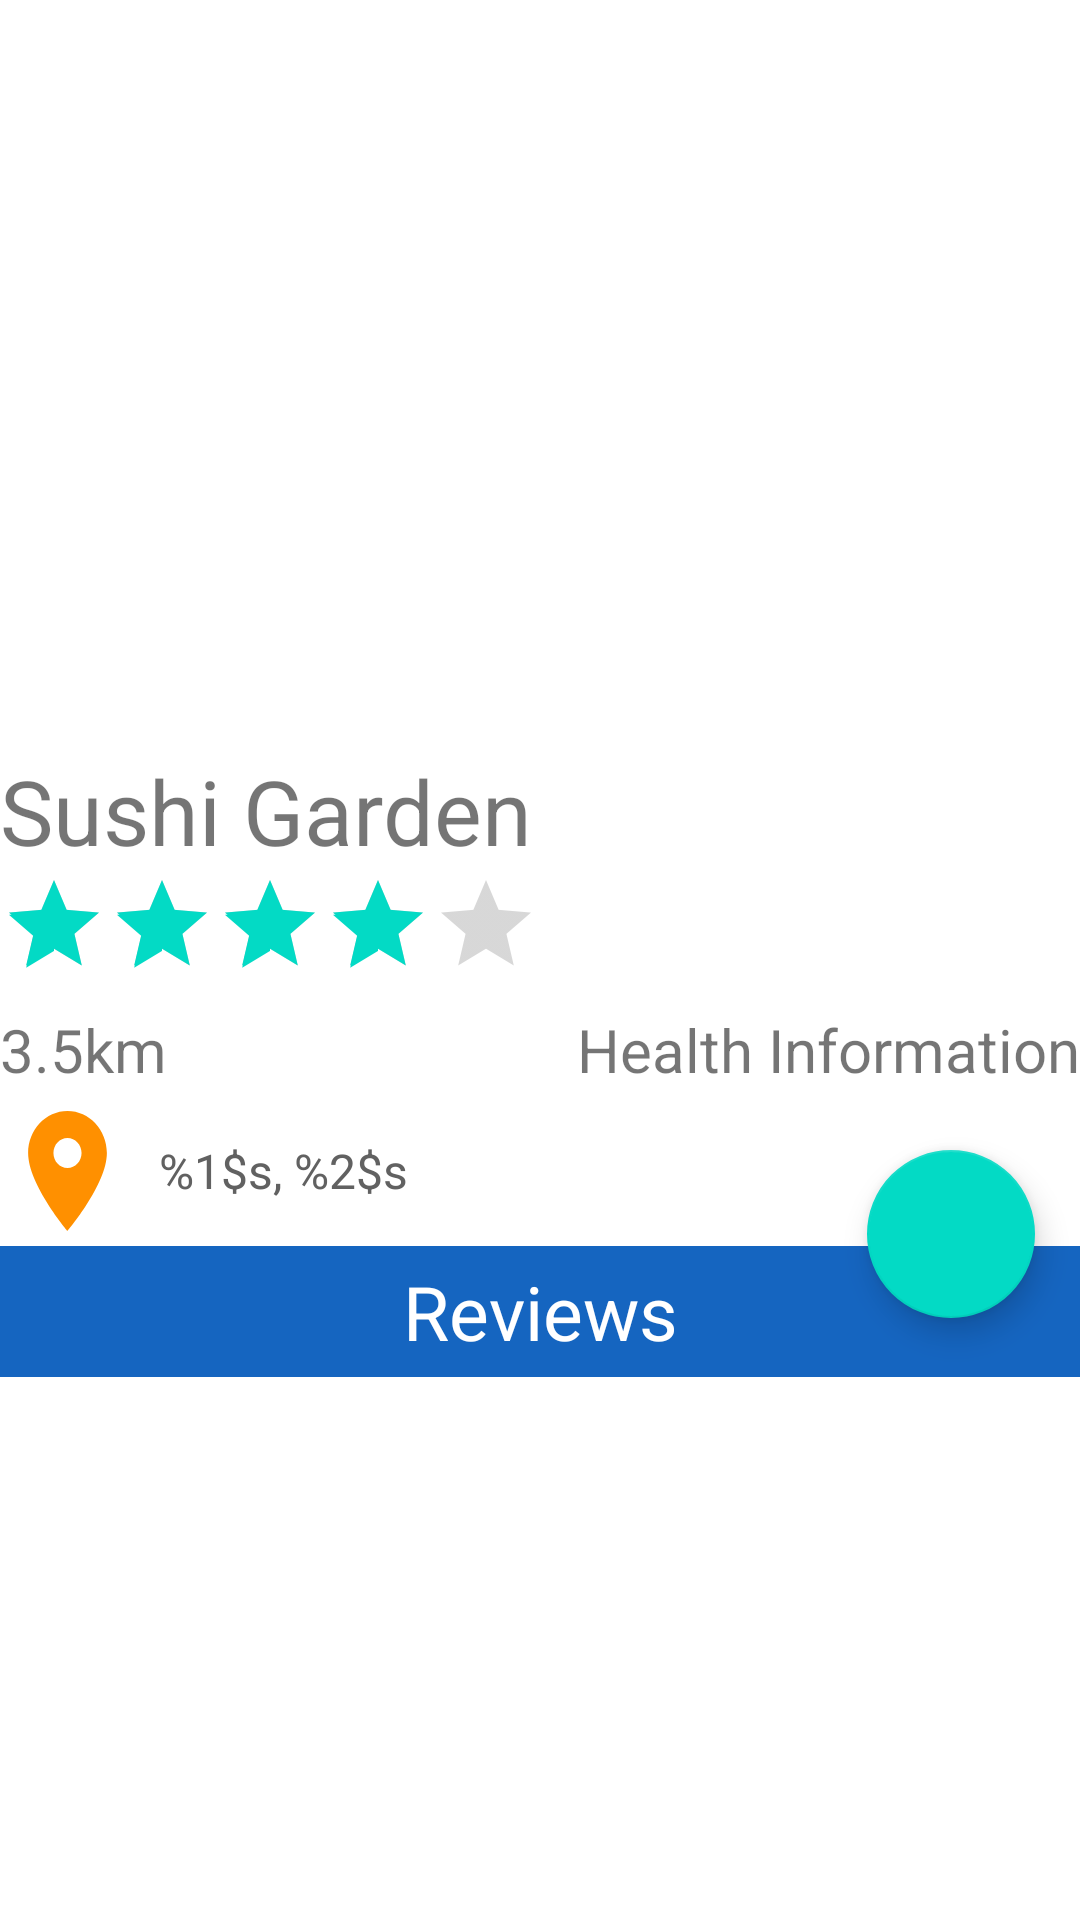

Icons on this 1080px x 1920px Android screen, each with its box as [x1,y1,x2,y2]:
restaurant address: [28,1111,107,1231]
